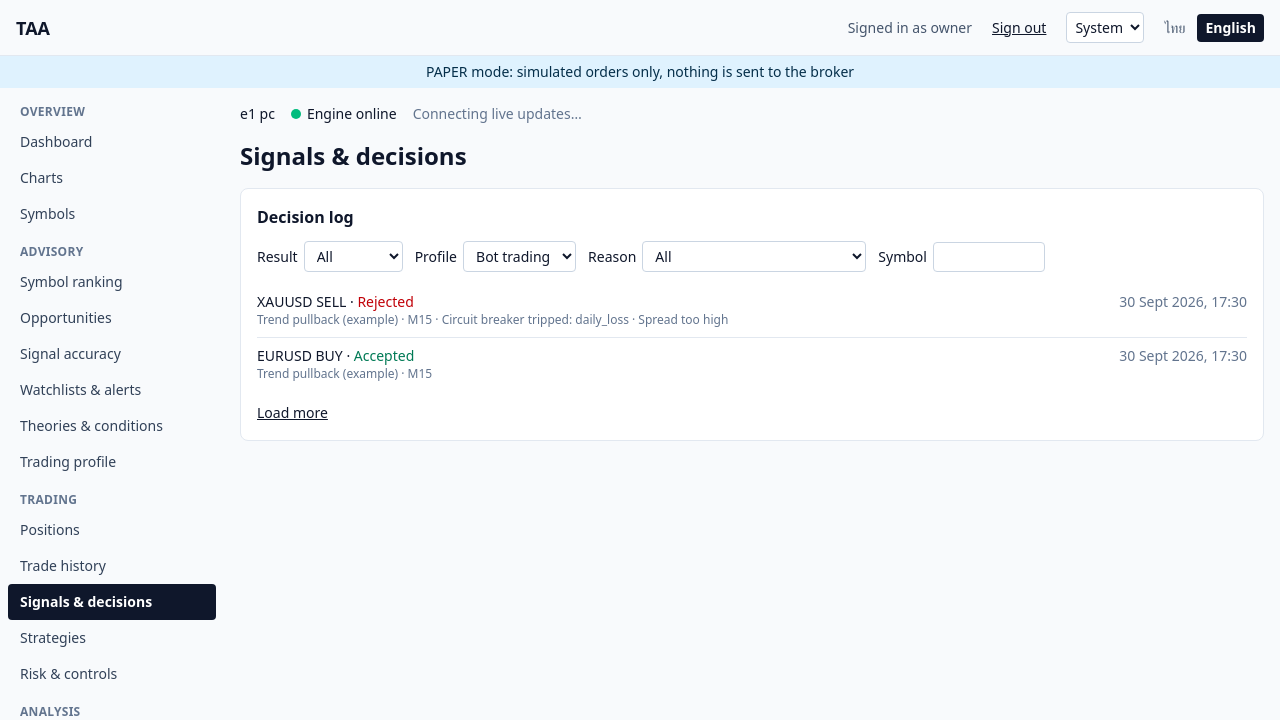
Test: signals & decisions page › lists bot decisions with their translated reasons and loads more
The width and height of the screenshot is (1280, 720).
Expected: the text "Circuit breaker tripped: daily_loss · Spread too high" is shown, [432, 311, 728, 328]
Expected: the button "XAUUSD SELL · Rejected" is shown, [257, 292, 1247, 328]
Click the button "Load more" at (292, 413), box [257, 403, 328, 423]
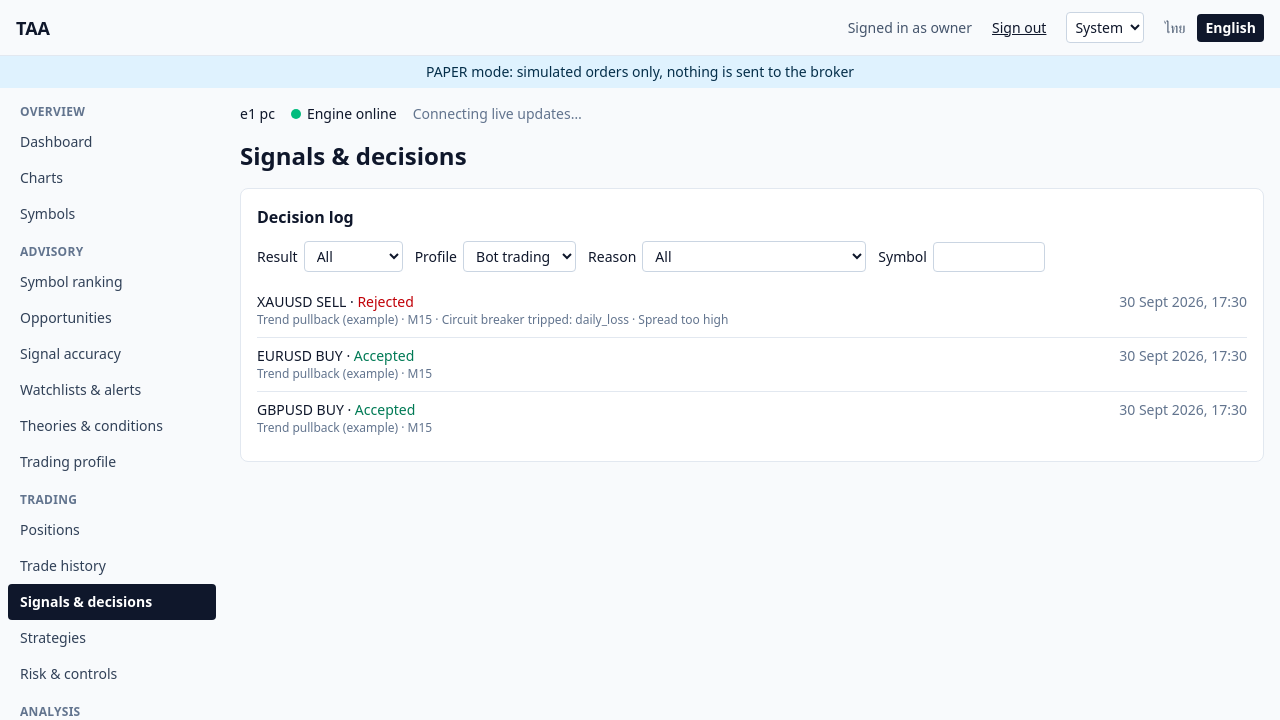
Expected: the text "GBPUSD BUY · Accepted" is shown, [257, 400, 415, 420]
